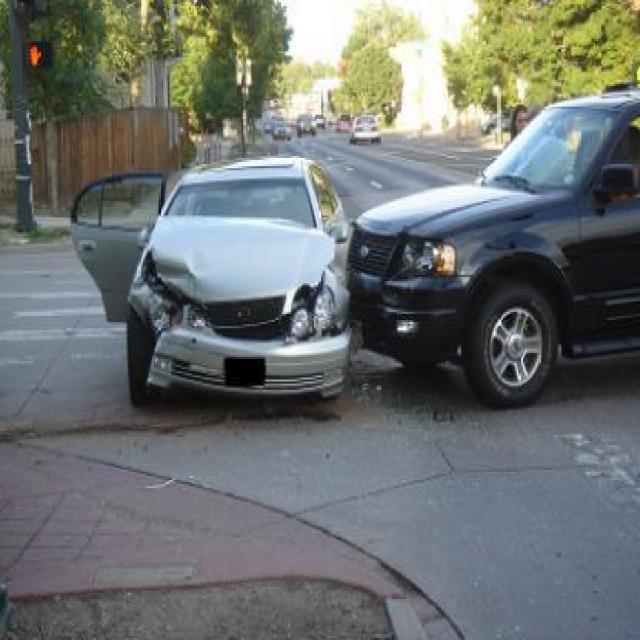accident: (130, 166, 514, 419)
